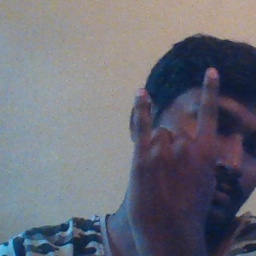V: (125, 63, 225, 244)
